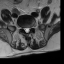CCS_normal: (26, 26, 28, 34)
LFS_severe_stenosis: (29, 25, 32, 29)
LLS_normal: (28, 26, 30, 32)
RFS_severe_stenosis: (21, 26, 24, 31)
RLS_normal: (24, 26, 26, 32)
